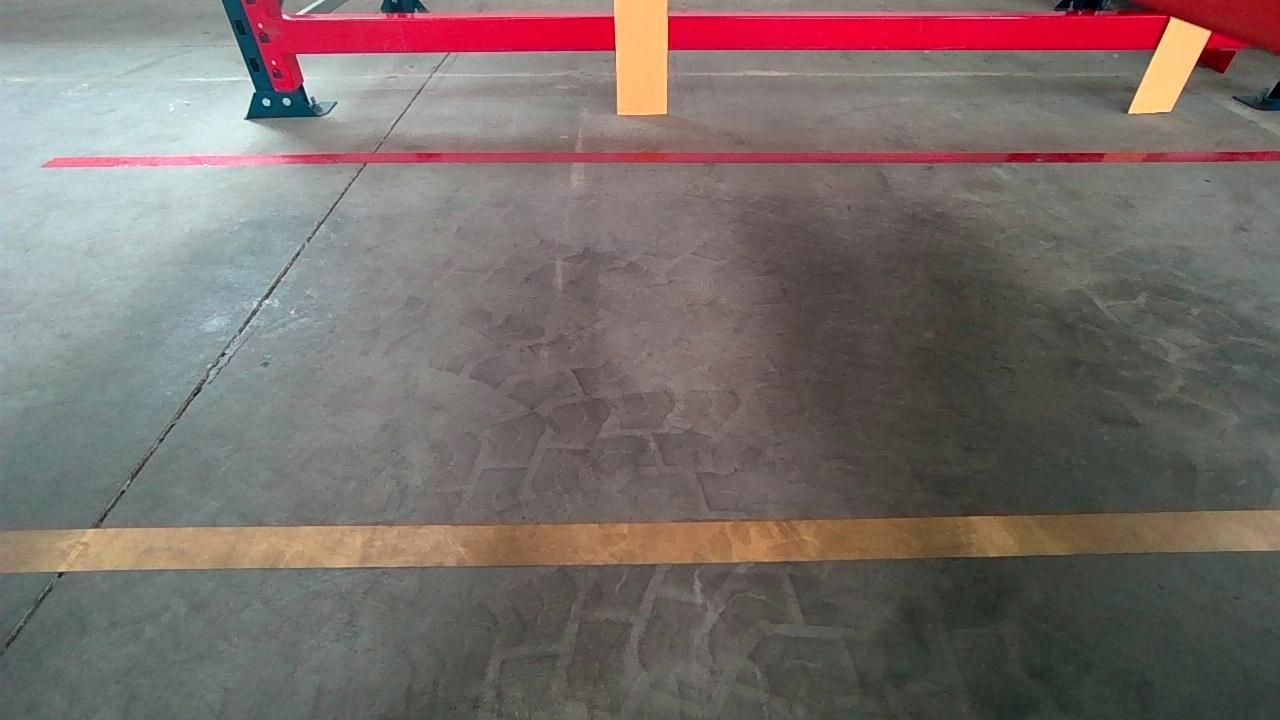h_rack: (279, 17, 1260, 51)
orange_strip: (1129, 16, 1213, 110), (615, 0, 670, 112)
red_line: (38, 152, 1280, 168)
yellow_line: (12, 509, 1263, 579)
